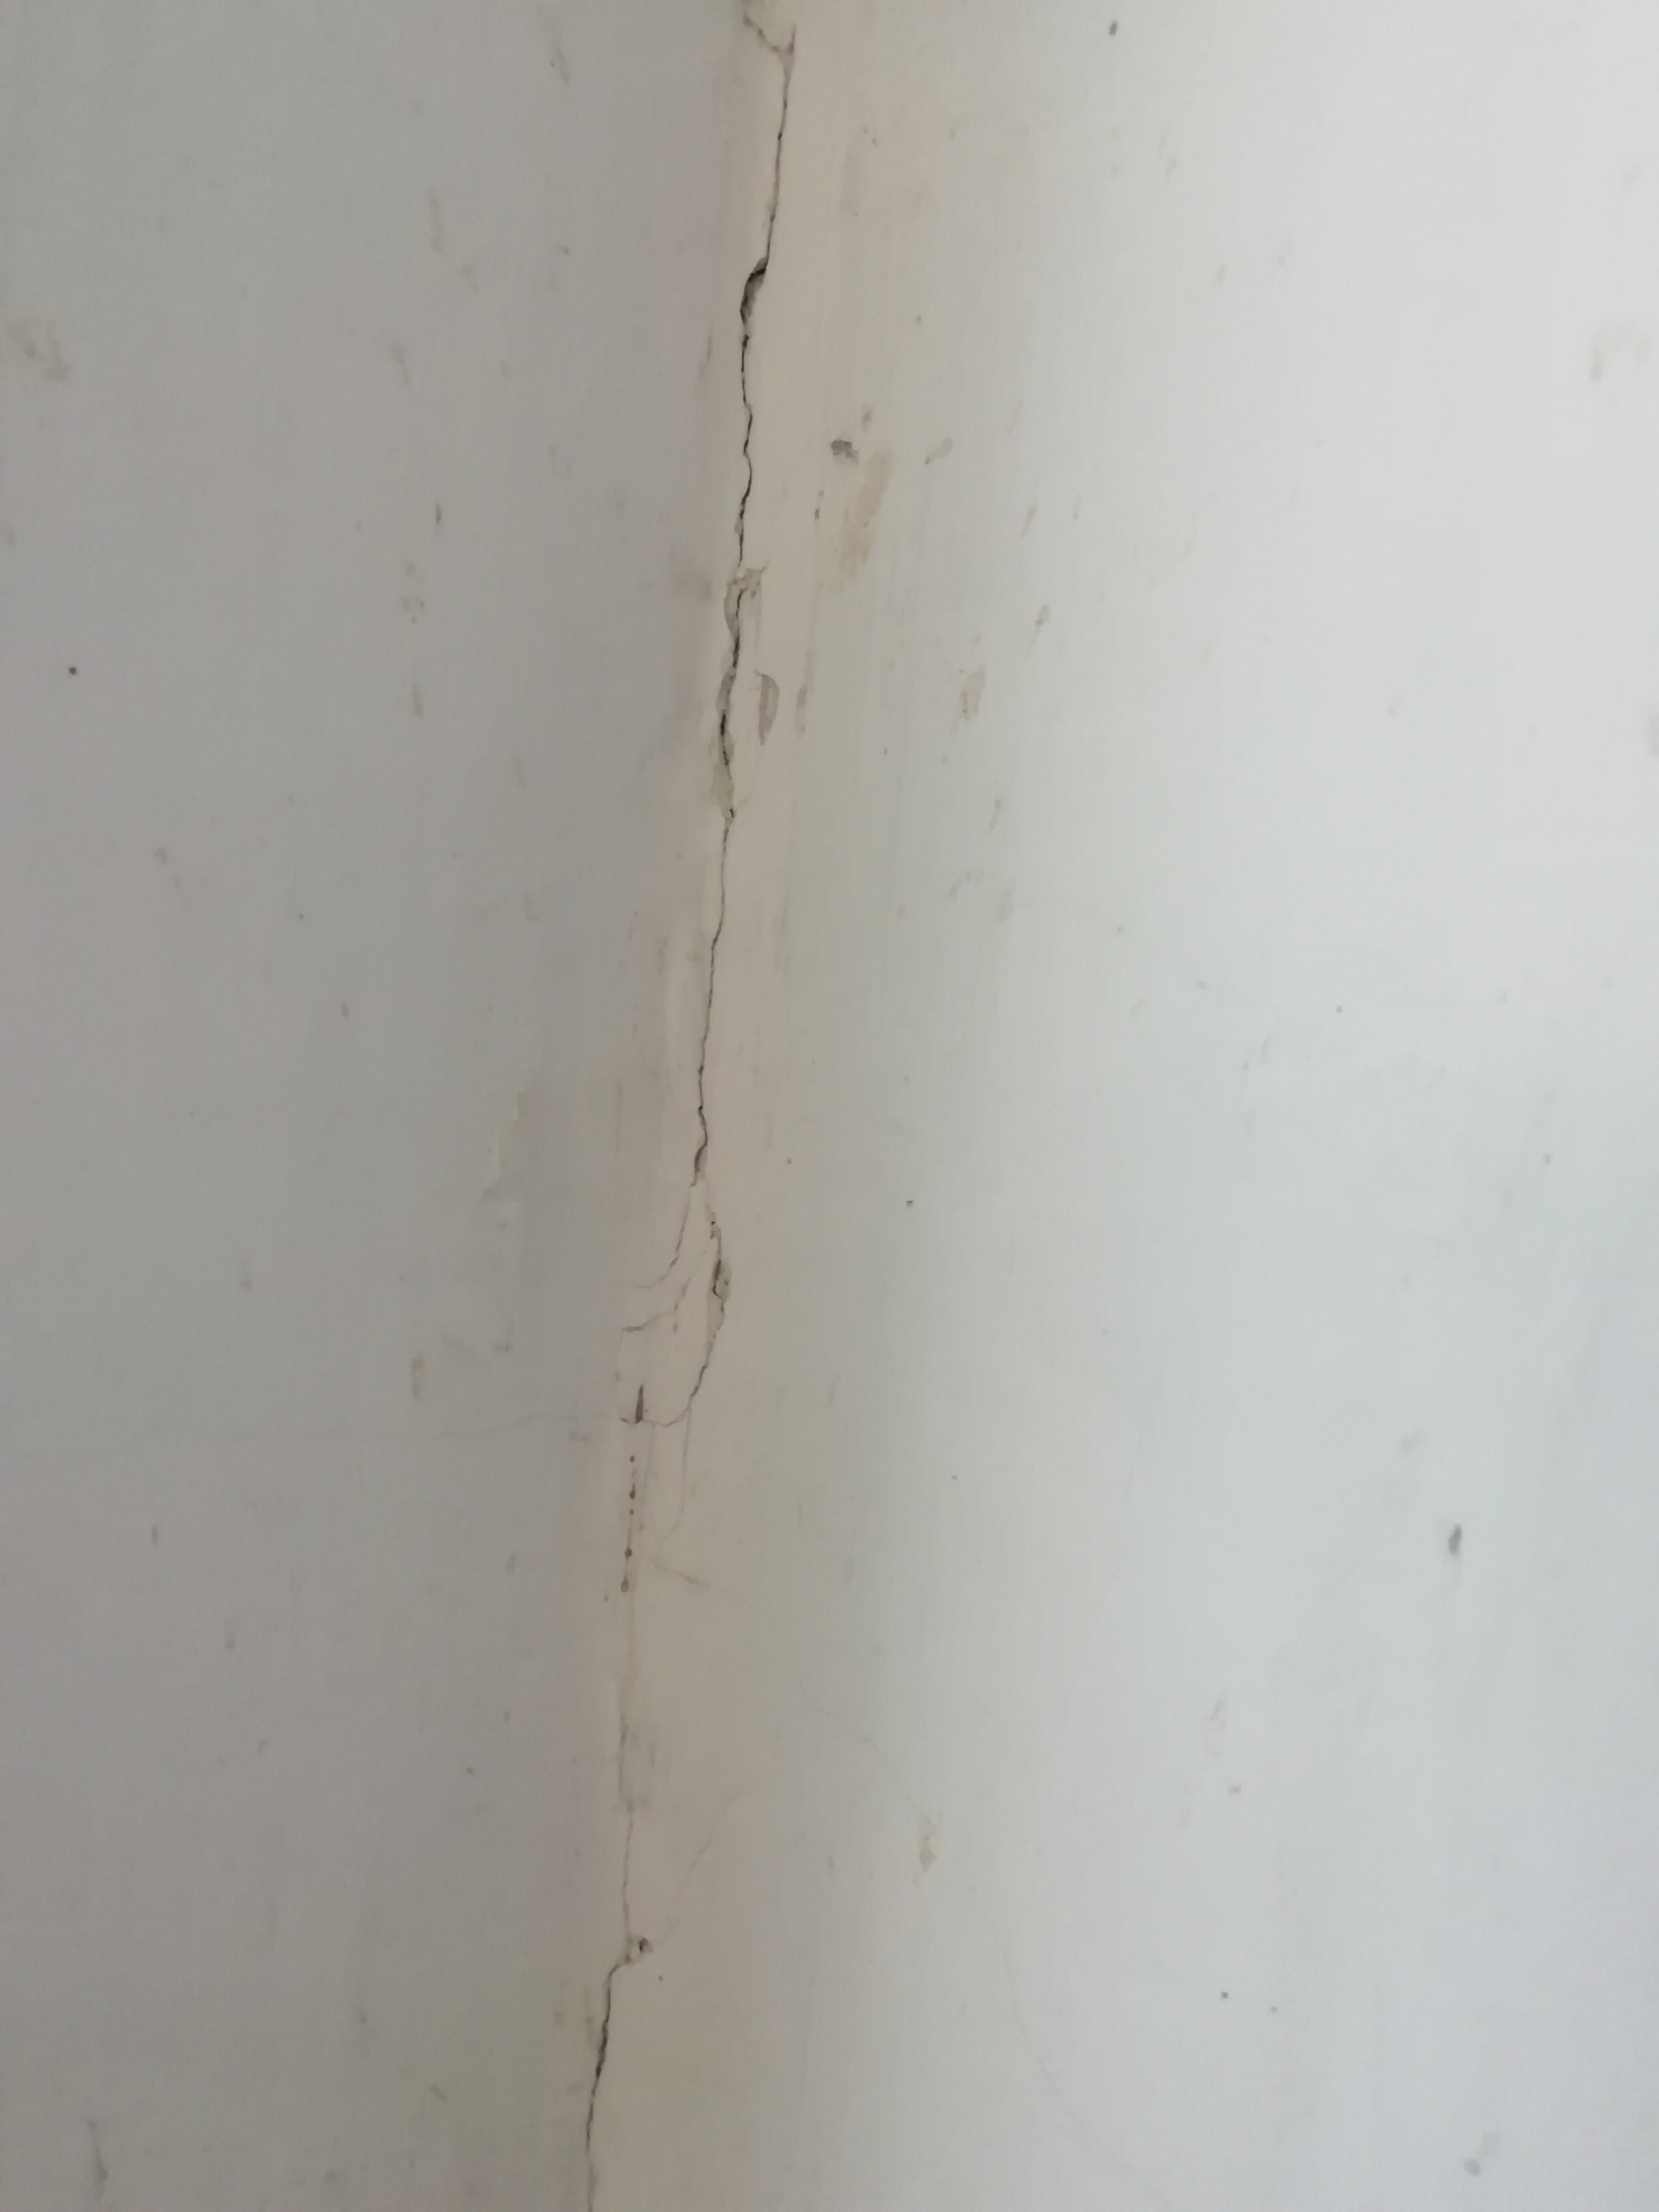Crack: (713, 226, 789, 561), (563, 1944, 636, 2188)
